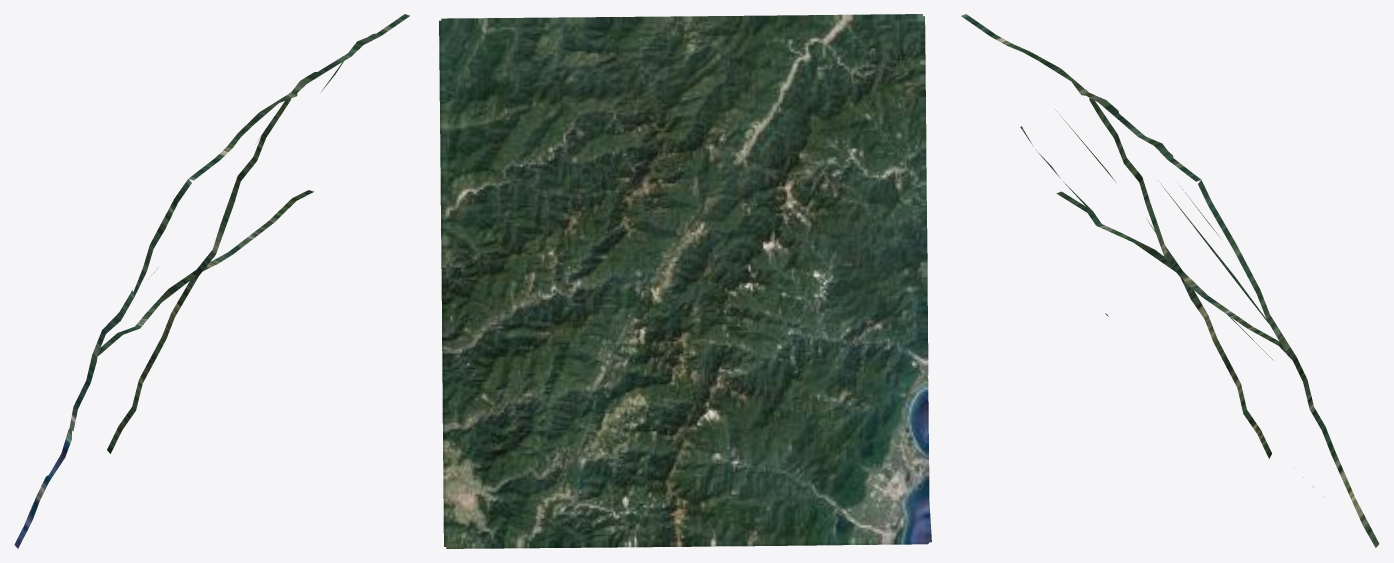
3 views of the same model, side by side, from view 1: azimuth 30°, elevation 25°; view 2: azimuth 150°, elevation 25°; view 3: azimuth 270°, elevation 25° (orthographic). The views are drawn at different scales.
Bounding box in the file's own units: 78739 × 72937 × 65818.
1 material, 1 textured.
